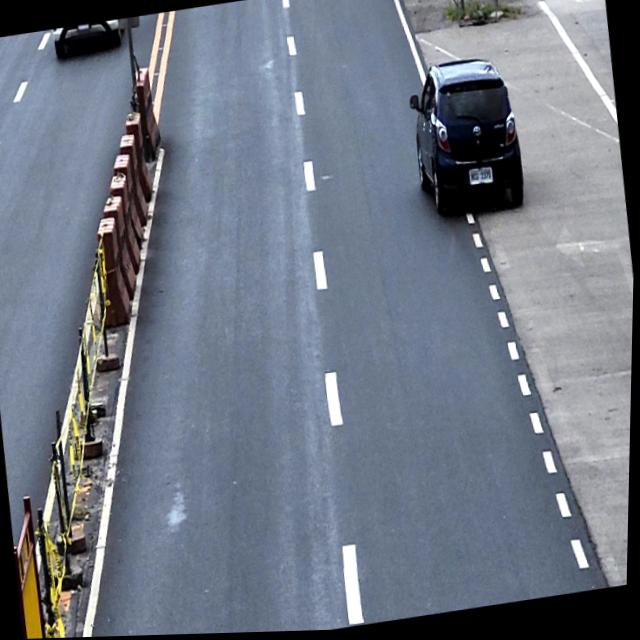Car: (403, 53, 530, 223), (50, 20, 124, 62)
License-Plate: (468, 166, 495, 190)
